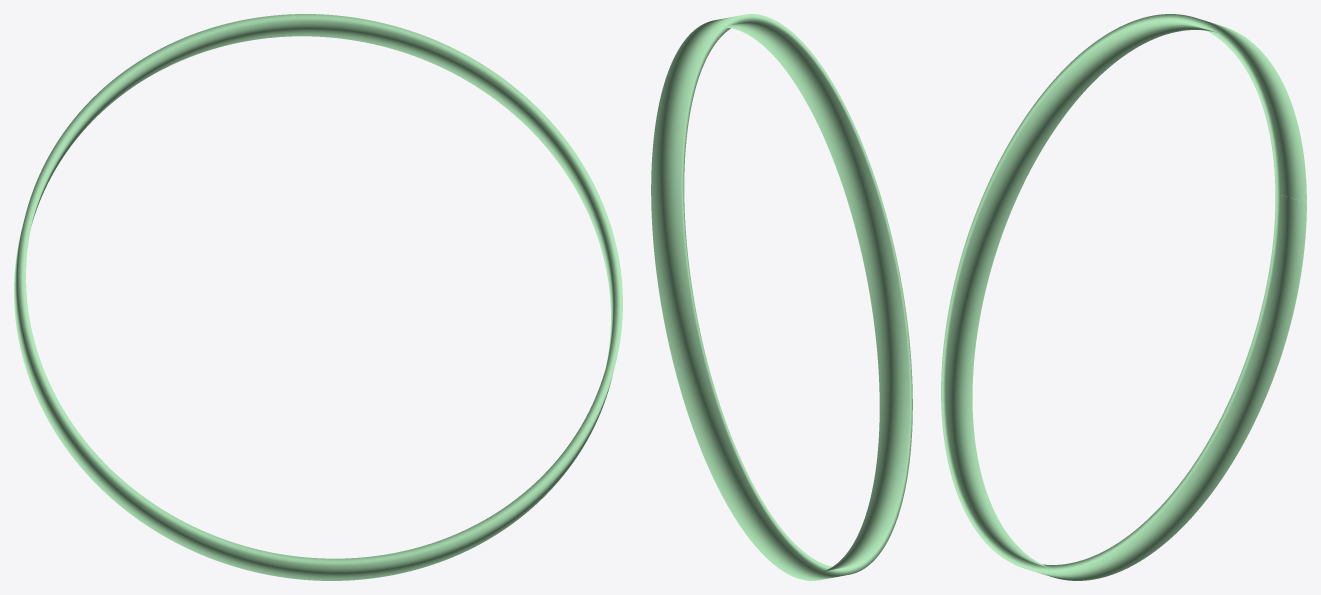
Rendered from coil_coil_4_tube.gltf.
The picture shows the model from 3 angles, left to right: view 1: azimuth 30°, elevation 25°; view 2: azimuth 150°, elevation 25°; view 3: azimuth 270°, elevation 25°; orthographic projection. The views are drawn at different scales.
Visible parts, largest first — view 1: Renderer Node; view 2: Renderer Node; view 3: Renderer Node.
Part boxes in pixels (<box>): Renderer Node: <box>14,14,622,580</box>; Renderer Node: <box>651,14,912,580</box>; Renderer Node: <box>941,14,1306,580</box>.
Bounding box in the file's own units: 0.5128 × 0.6084 × 0.3859.
